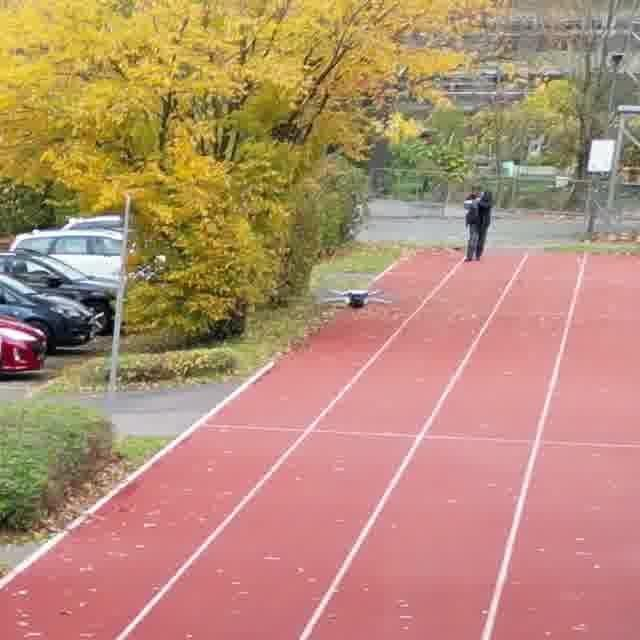Drohne: (325, 289, 390, 308)
